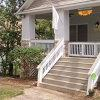stairs: (40, 58, 96, 97)
